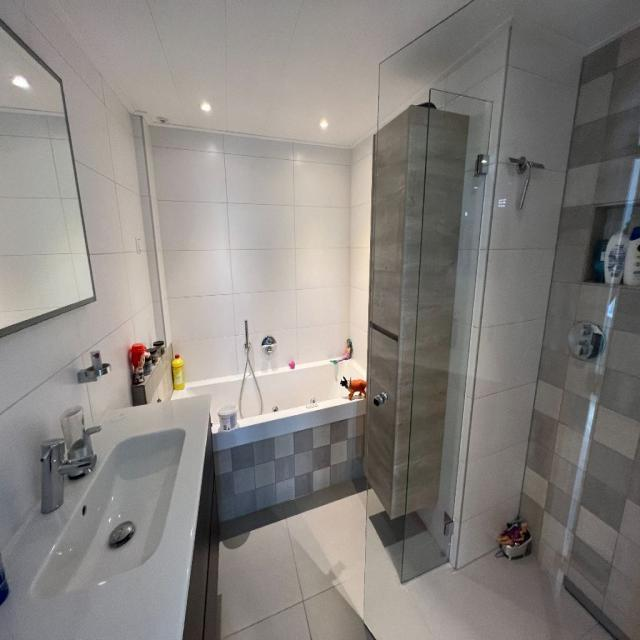bath: (172, 334, 368, 452)
douche: (363, 0, 640, 640)
wastafel: (0, 393, 210, 640), (183, 425, 221, 640)
